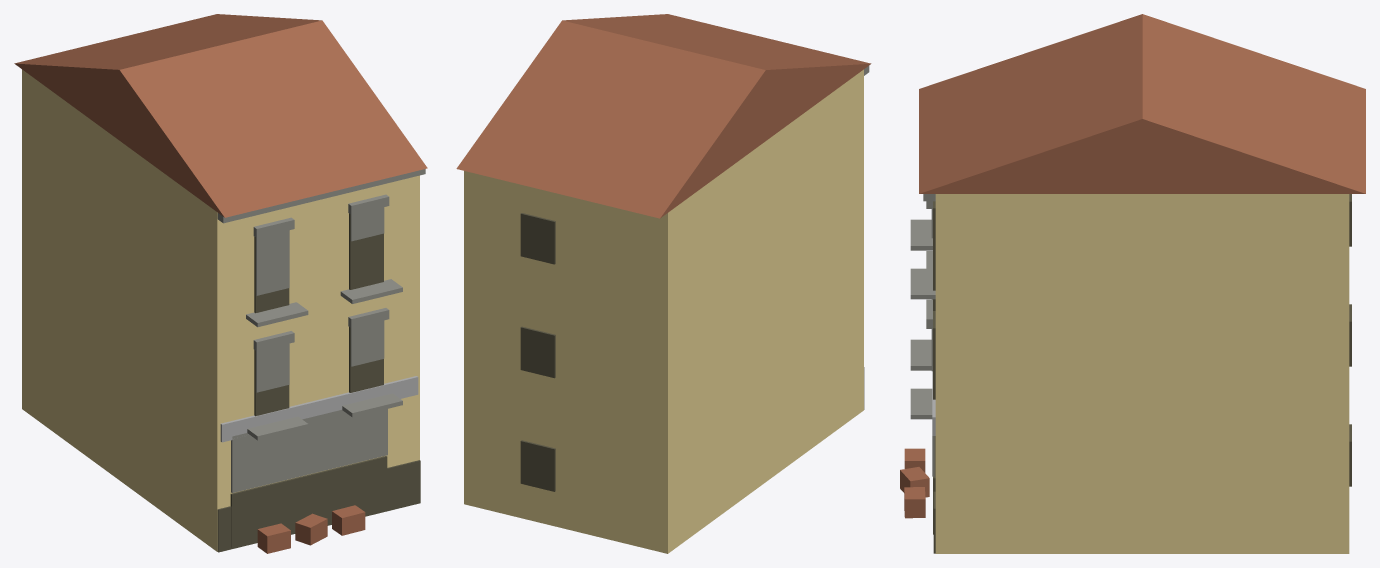
File: SM_BajoComercial_v1_Ultramarinos_LOD1.fbx
3 renders of one model, left to right at view 1: azimuth 30°, elevation 25°; view 2: azimuth 150°, elevation 25°; view 3: azimuth 270°, elevation 25°, orthographic. The views are drawn at different scales.
Parts seen in each view (by area): view 1: SM_pueblo_valenciano_v6_LOD1; view 2: SM_pueblo_valenciano_v6_LOD1; view 3: SM_pueblo_valenciano_v6_LOD1.
Boxes of the visible parts, left/top/right/bottom form: SM_pueblo_valenciano_v6_LOD1: left=14, top=14, right=427, bottom=553; SM_pueblo_valenciano_v6_LOD1: left=456, top=14, right=871, bottom=553; SM_pueblo_valenciano_v6_LOD1: left=900, top=14, right=1365, bottom=553.
Size of the model in its own units: 6 by 11.6 by 11.26.
